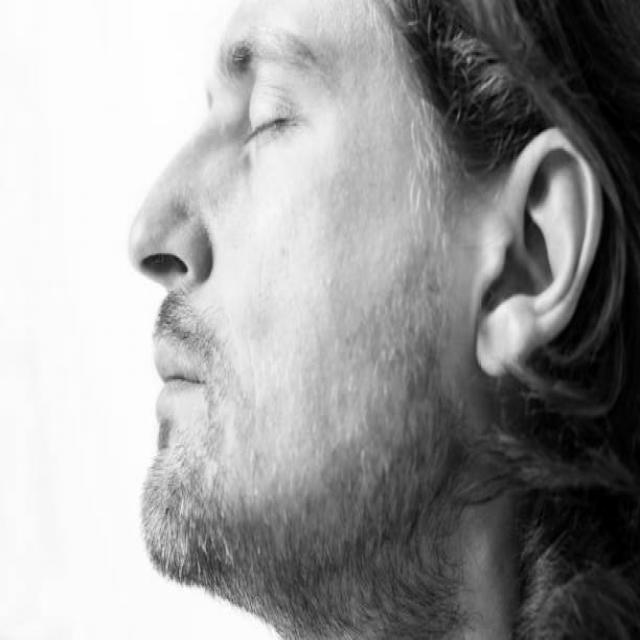real: (125, 2, 640, 639), (204, 22, 334, 178)
